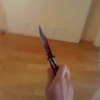knife: (38, 26, 59, 74)
